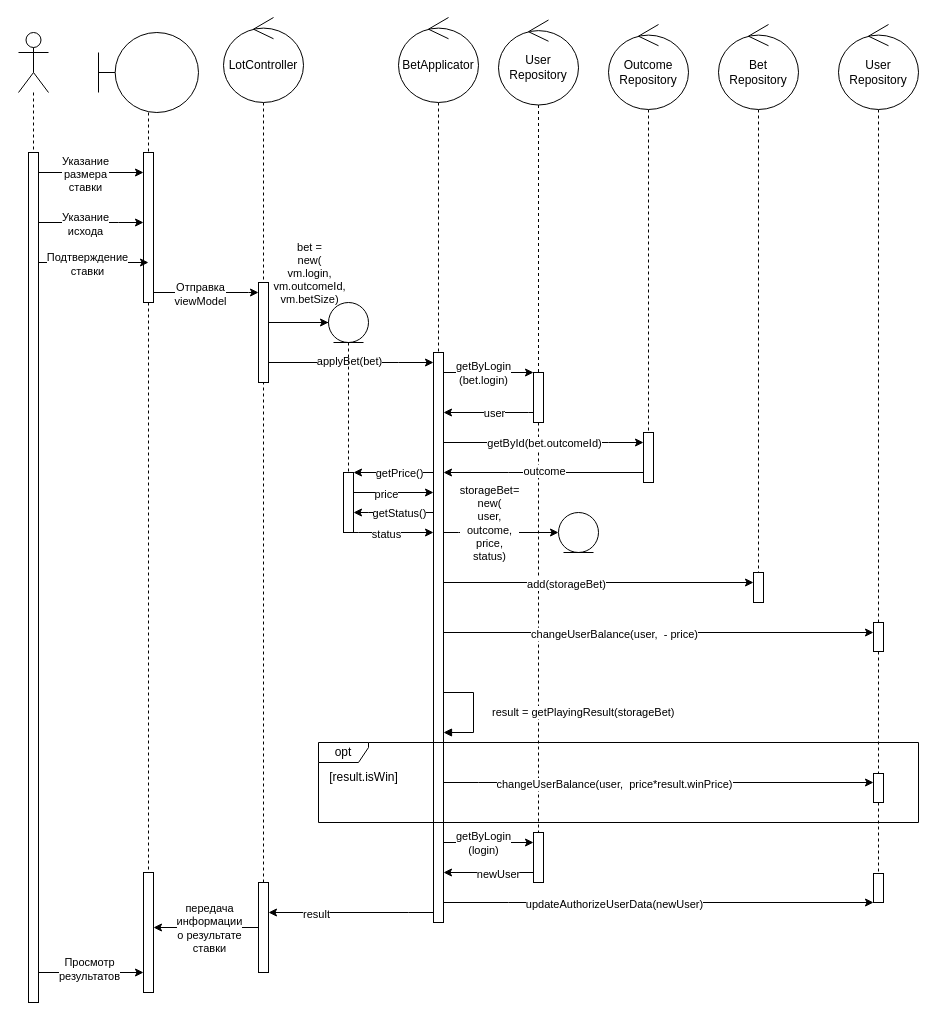
This 936x1020 diagram has some shape labels left out. Each missing label, with the centre of its shape:
Bet: (x=348, y=322)
Storage Bet: (x=578, y=532)
Игрок: (x=33, y=62)
Страница с лотом: (x=148, y=72)
